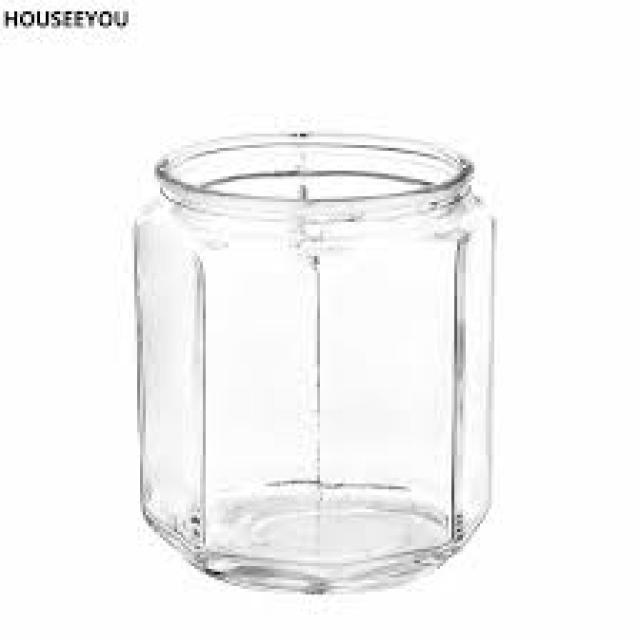glass: (132, 128, 495, 592)
